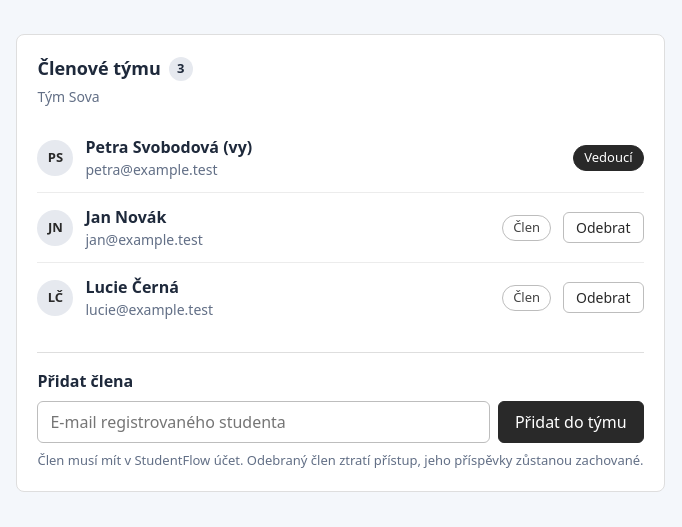
Test: ProjectMembers removal › shows 403 PROJECT_LEADER_REQUIRED and reloads, because the team changed meanwhile
Click the button "Odebrat" in the row of "JN" at (603, 228), box [563,212,644,243]
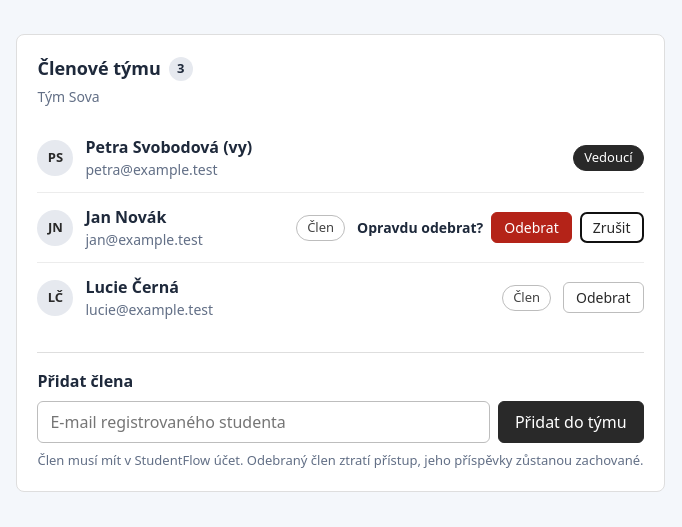
Click the button "Odebrat" next to "Opravdu odebrat?" at (531, 228), box [491,212,572,243]
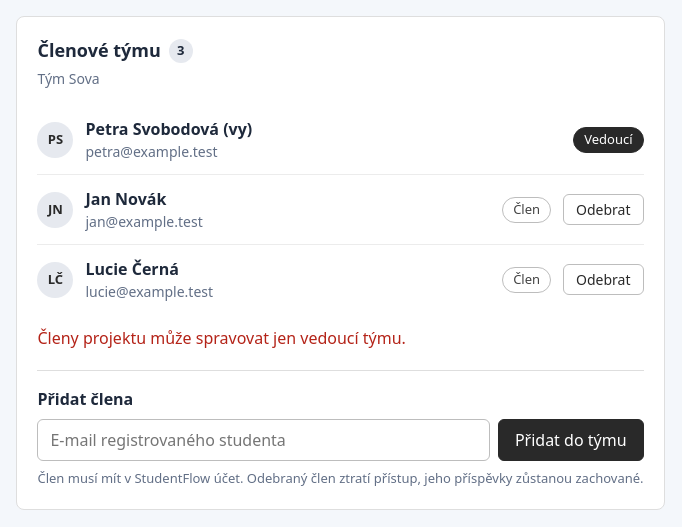
Check: the message reads "Členy projektu může spravovat jen vedoucí týmu.", box [38,327,406,349]
